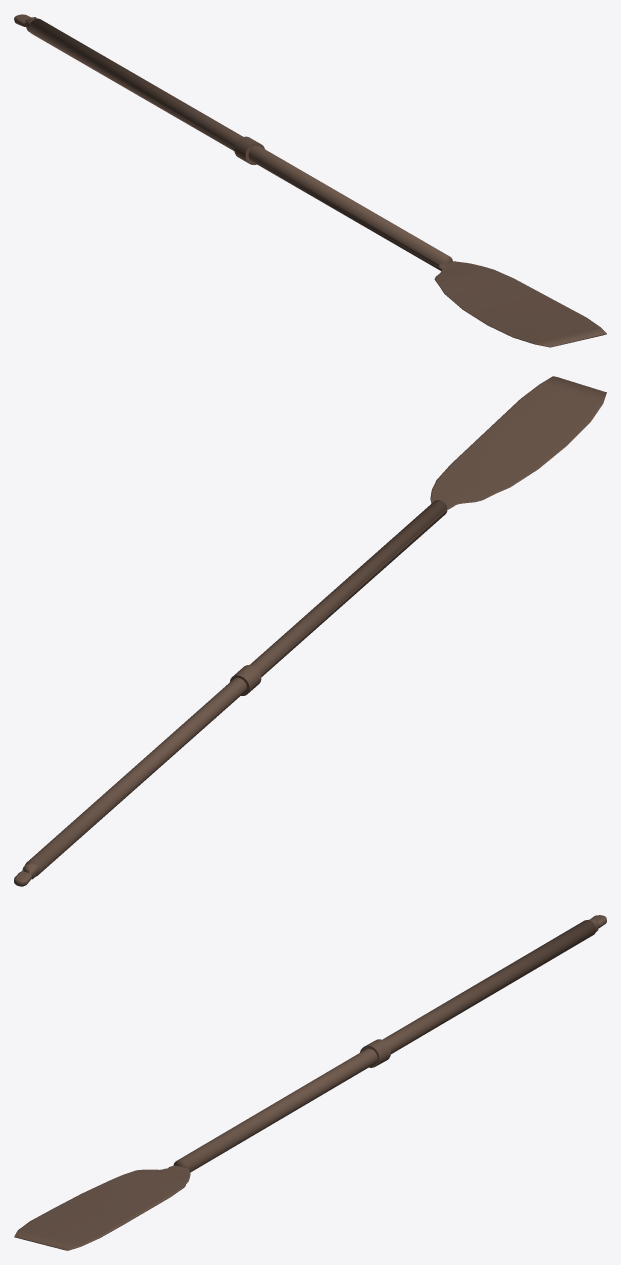
File: oarattempt1.fbx
The picture shows the model from 3 angles, top to bottom: view 1: azimuth 30°, elevation 25°; view 2: azimuth 150°, elevation 25°; view 3: azimuth 330°, elevation 25°; orthographic projection.
Parts seen in each view (by area): view 1: Main; view 2: Main; view 3: Main.
Part boxes in pixels (x1=…): Main: x1=14, y1=14, x2=606, y2=347; Main: x1=14, y1=376, x2=606, y2=886; Main: x1=14, y1=915, x2=606, y2=1250.
Size of the model in its own units: 2929 by 3538 by 38720.
